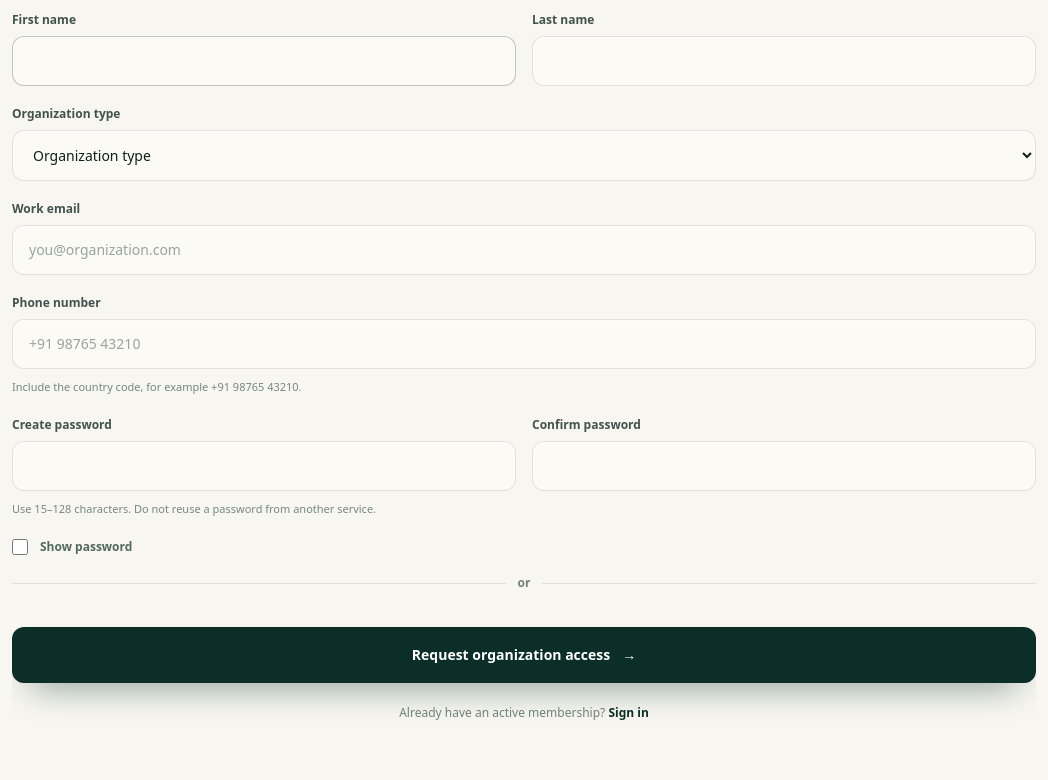
Test case: RegistrationForm interactions › lets the user inspect password fields without altering their values
In the password field labelled "Create password": [264, 466] box [12,441,516,491], type "a-secure-password"
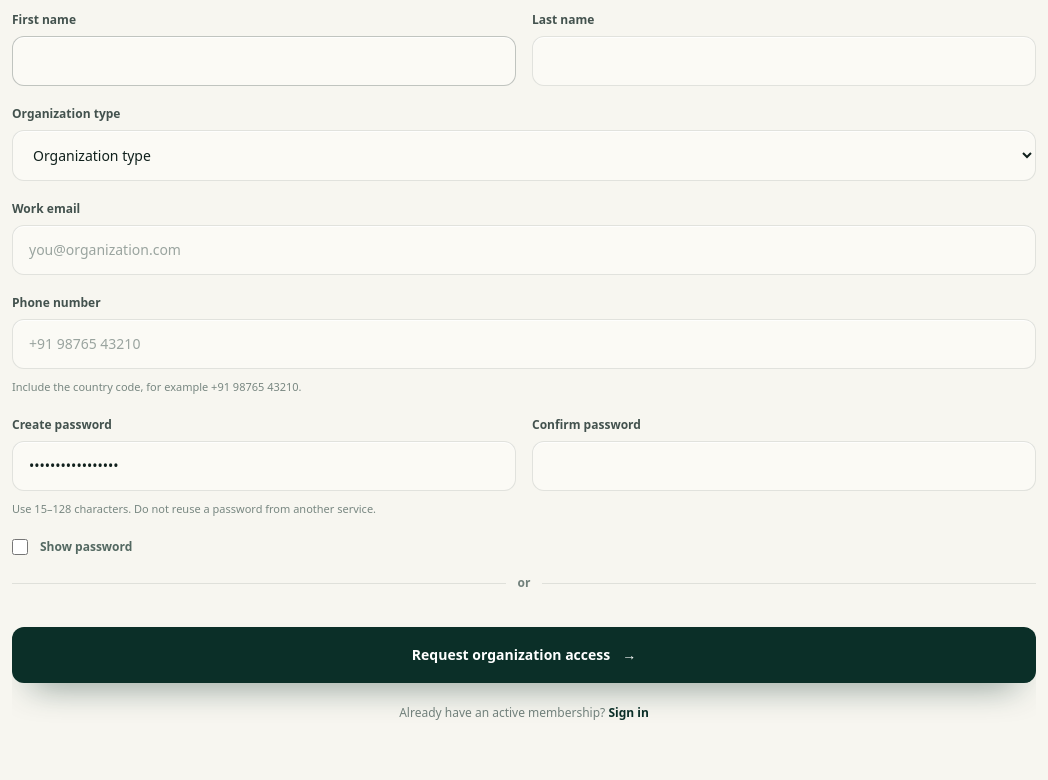
In the password field labelled "Confirm password": [784, 466] box [532,441,1036,491], type "a-secure-password"
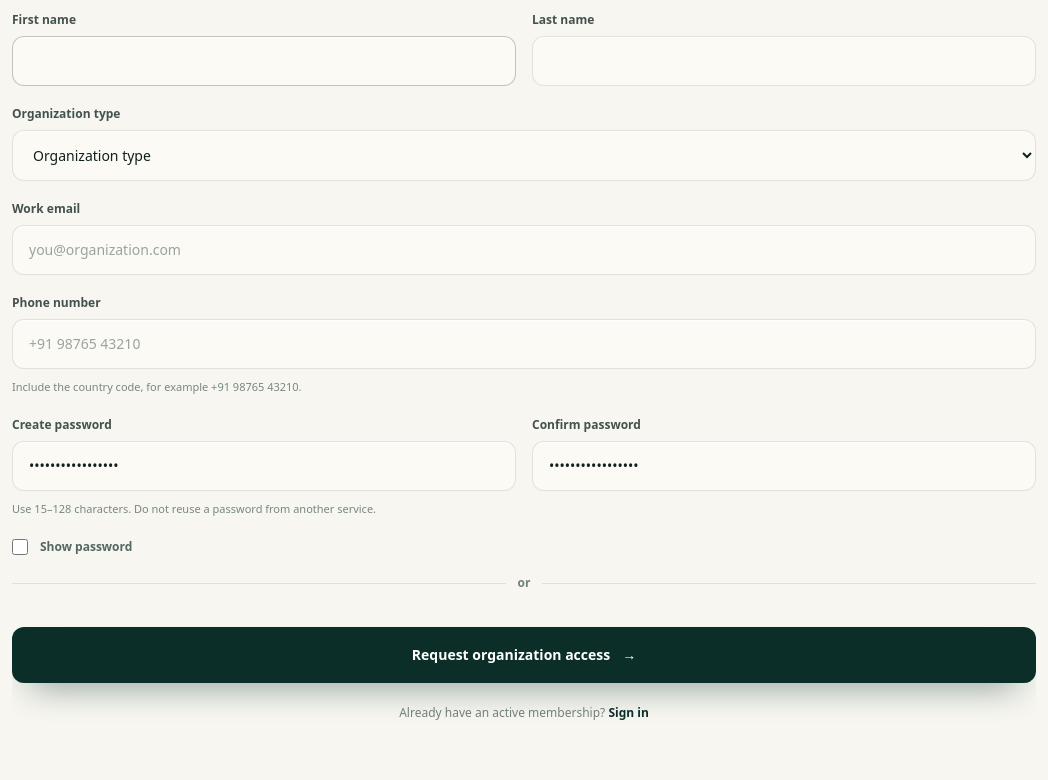
Click the checkbox labelled "Show password": [20, 547] box [12,539,28,555]
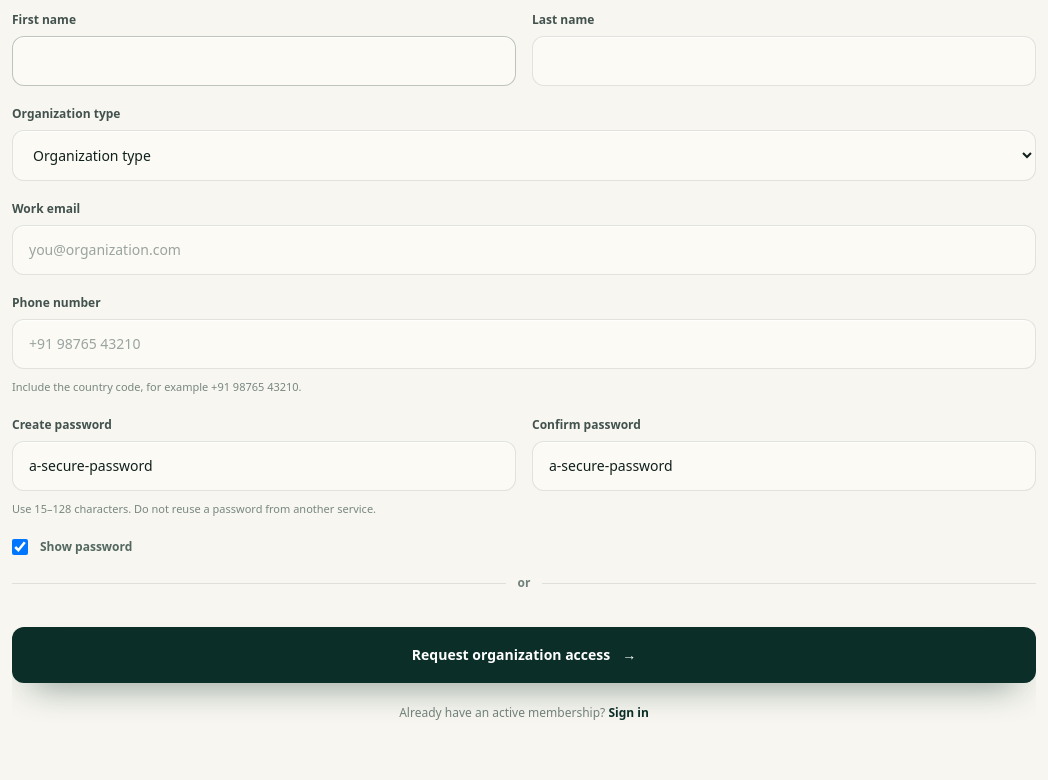
Expected: the field labelled "Create password" shows its text, [12,441,516,491]
